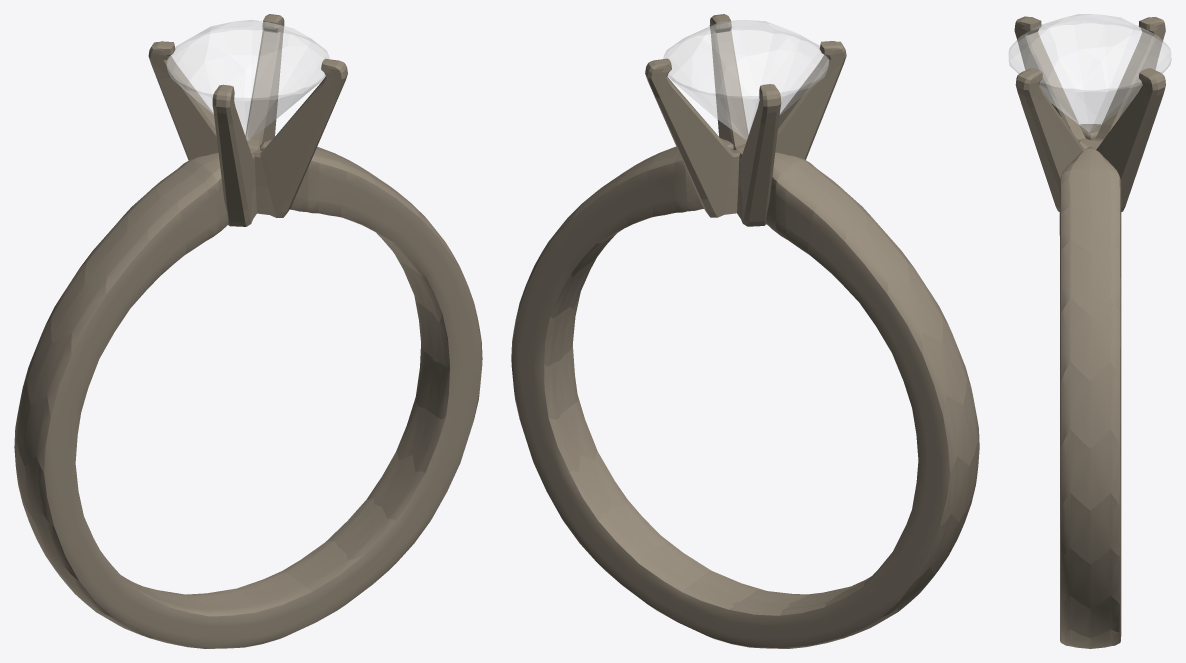
File: ring.glb
3 renders of one model, left to right at view 1: azimuth 30°, elevation 25°; view 2: azimuth 150°, elevation 25°; view 3: azimuth 270°, elevation 25°, orthographic.
Parts seen in each view (by area): view 1: Ring, Holder, Diamond; view 2: Ring, Holder, Diamond; view 3: Ring, Holder, Diamond.
Part boxes in pixels (x1=…): Ring: x1=14, y1=139, x2=482, y2=648; Holder: x1=148, y1=14, x2=347, y2=226; Diamond: x1=166, y1=20, x2=329, y2=140; Ring: x1=511, y1=138, x2=979, y2=648; Holder: x1=645, y1=14, x2=846, y2=226; Diamond: x1=663, y1=20, x2=828, y2=139; Ring: x1=1059, y1=124, x2=1121, y2=648; Holder: x1=1014, y1=16, x2=1165, y2=211; Diamond: x1=1008, y1=14, x2=1171, y2=132.
Bounding box in the file's own units: 0.0211 × 0.027 × 0.0067.
